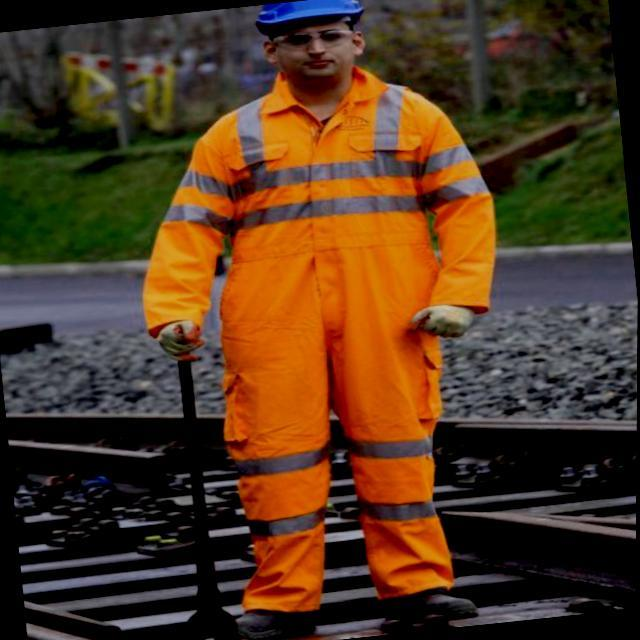goggles_on: (262, 24, 367, 52)
